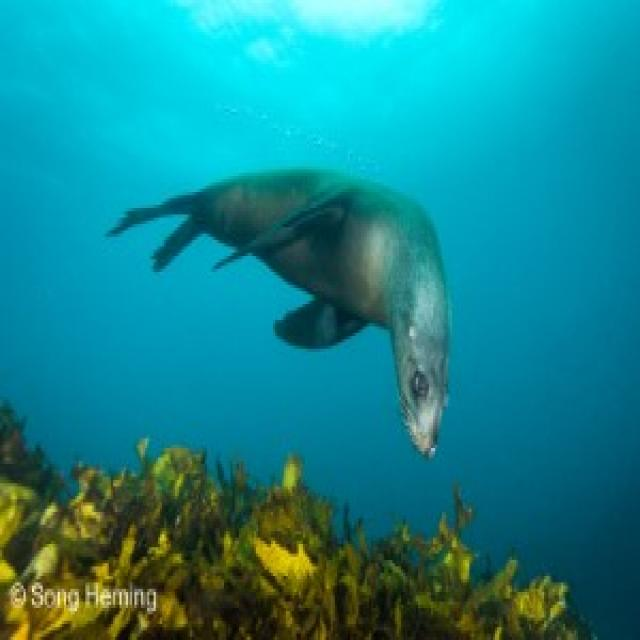Seal: (107, 133, 458, 467)
